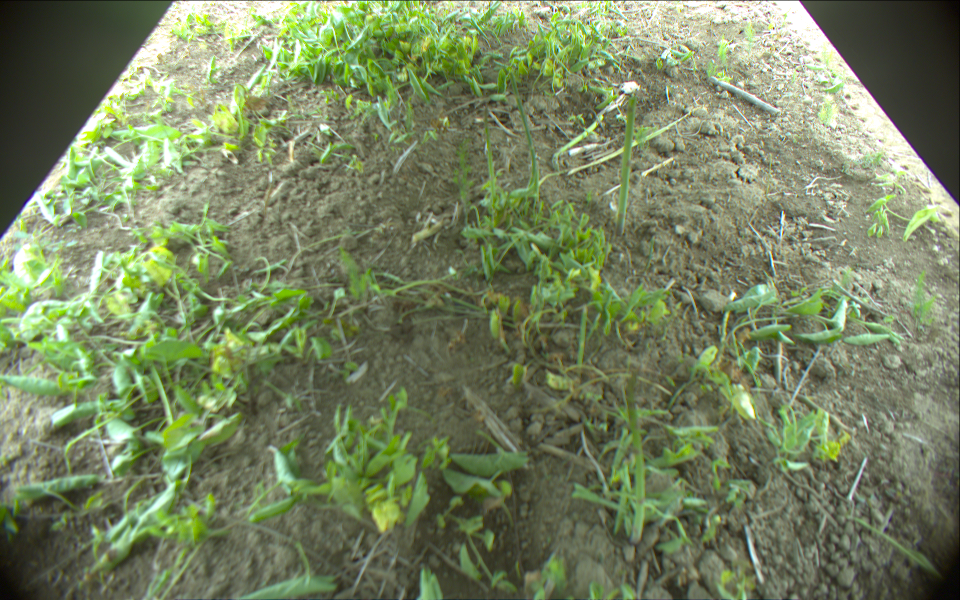aspa: (508, 69, 538, 194), (625, 390, 649, 542), (617, 94, 638, 237)
